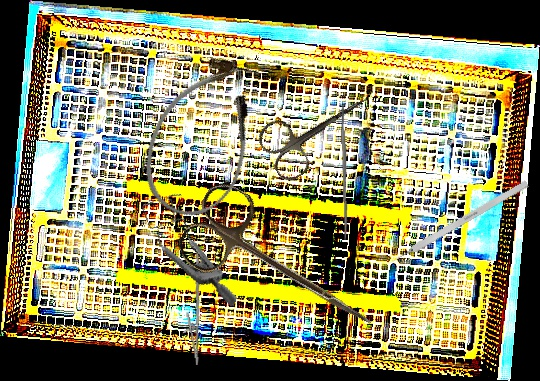Cannula: (127, 41, 280, 232)
Hook Surgical: (383, 179, 530, 269)
Iris Scissors: (171, 176, 396, 358), (253, 73, 384, 186)
Needle Holder: (172, 250, 214, 367)
Scalpel Handle: (340, 104, 349, 241)
Speculum: (120, 183, 265, 307)
